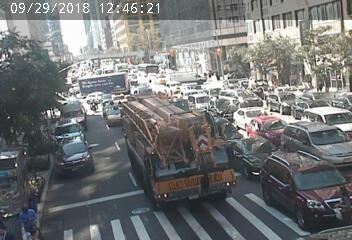car: (127, 99, 201, 188), (274, 157, 327, 200), (81, 81, 140, 97), (244, 139, 274, 169), (60, 144, 93, 169), (168, 68, 208, 84), (299, 129, 329, 150), (253, 118, 288, 135), (311, 109, 338, 125), (135, 65, 165, 78), (236, 110, 265, 123), (59, 121, 82, 137), (226, 91, 255, 103), (276, 89, 293, 105), (60, 103, 83, 113), (194, 97, 211, 110), (108, 100, 118, 119), (298, 100, 317, 109), (181, 88, 198, 98), (166, 81, 182, 91)
